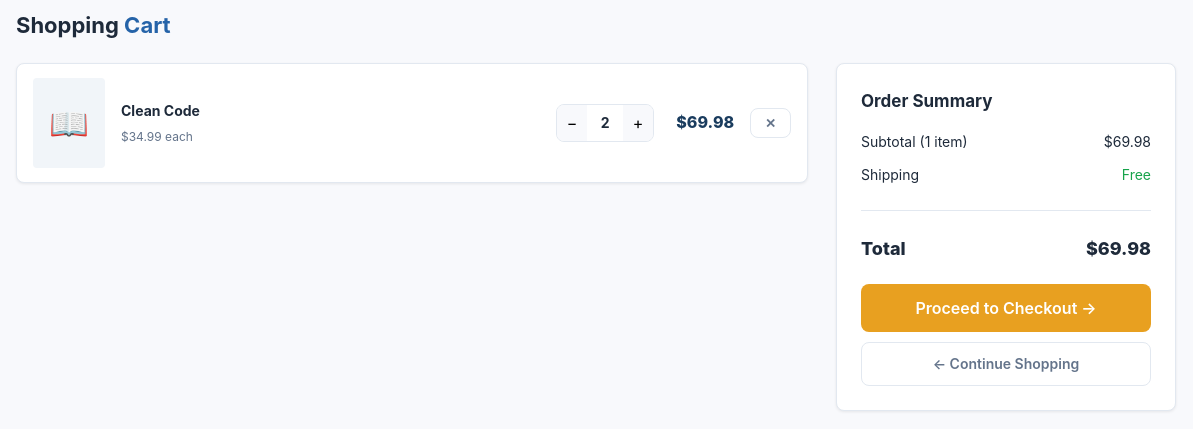
Test case: CartPage › ✕ removes the item and shows the empty state when it was the last
Check: the link "Clean Code" is shown, box [121,102,200,119]
Click the button "✕" at (771, 123), box [750,108,791,138]
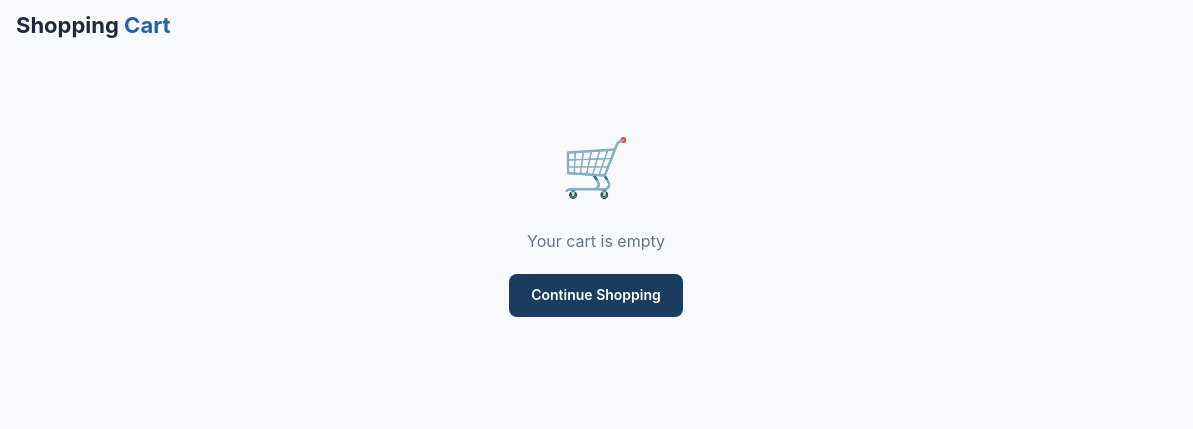
Check: the text "Your cart is empty" is shown, box [527,231,665,251]
